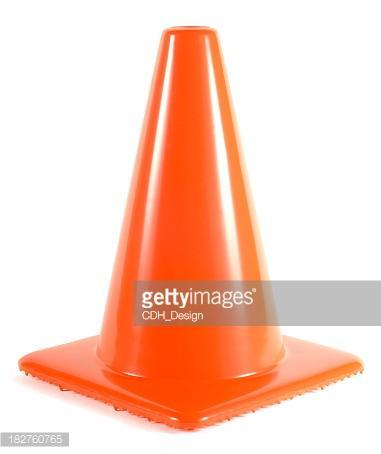Cone: (22, 22, 364, 432)
